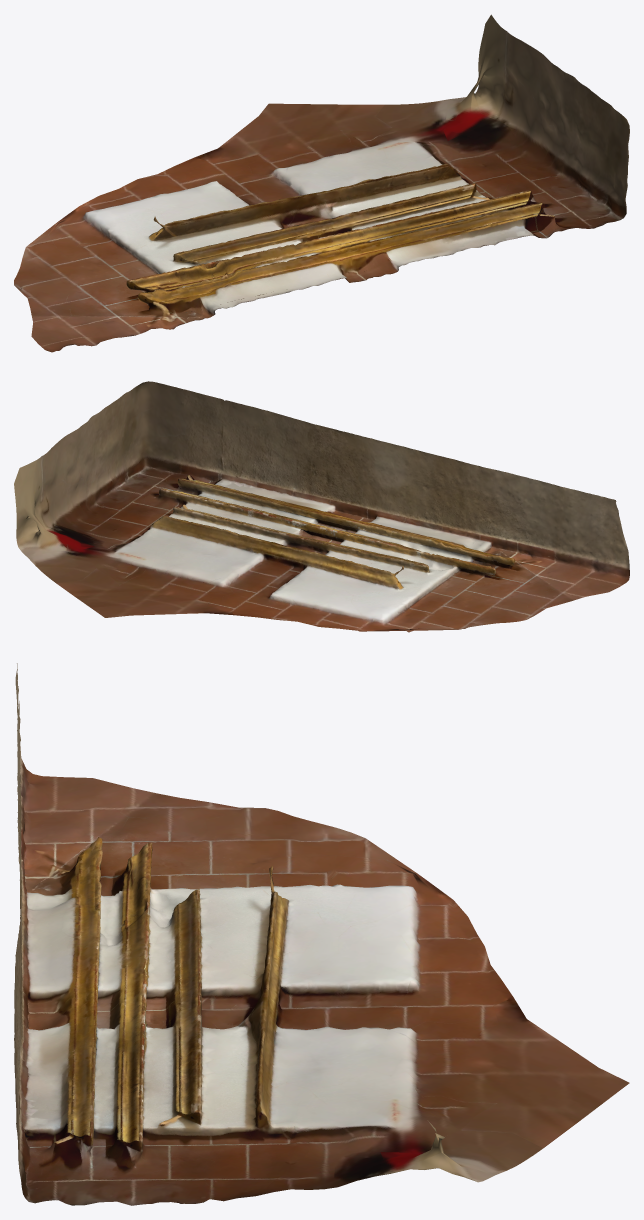
3 renders of one model, top to bottom at view 1: azimuth 30°, elevation 25°; view 2: azimuth 150°, elevation 25°; view 3: azimuth 270°, elevation 25°, orthographic. The views are drawn at different scales.
Parts seen in each view (by area): view 1: Node; view 2: Node; view 3: Node.
Boxes of the visible parts, x1=… form: Node: x1=14, y1=14, x2=629, y2=352; Node: x1=14, y1=381, x2=629, y2=632; Node: x1=14, y1=663, x2=629, y2=1205.
Size of the model in its own units: 4.96 by 0.8286 by 3.04.
1 material, 1 textured.
